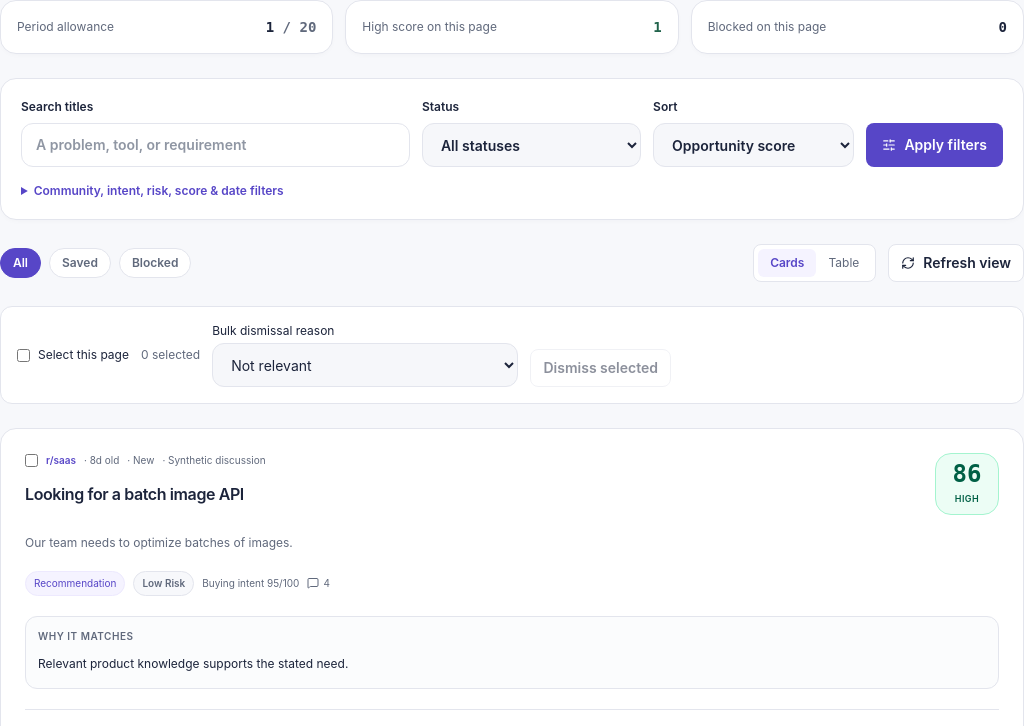
opportunity review states › submits only selected visible items and the chosen dismissal reason
This screenshot has width=1024, height=726.
Expected: the button "Dismiss selected" is disabled, [530, 349, 671, 387]
Click the checkbox named "Select Looking for a batch image API" at (32, 460), box [25, 454, 38, 467]
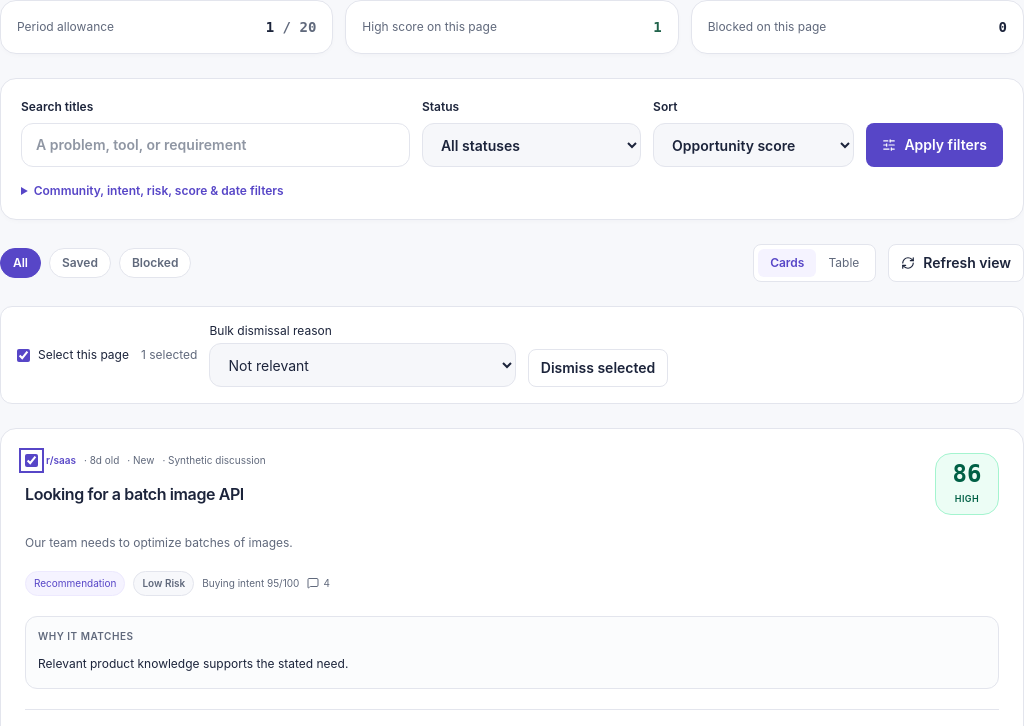
Select "Product cannot help" in the dropdown labelled "Bulk dismissal reason" at (363, 365), box [210, 343, 516, 387]
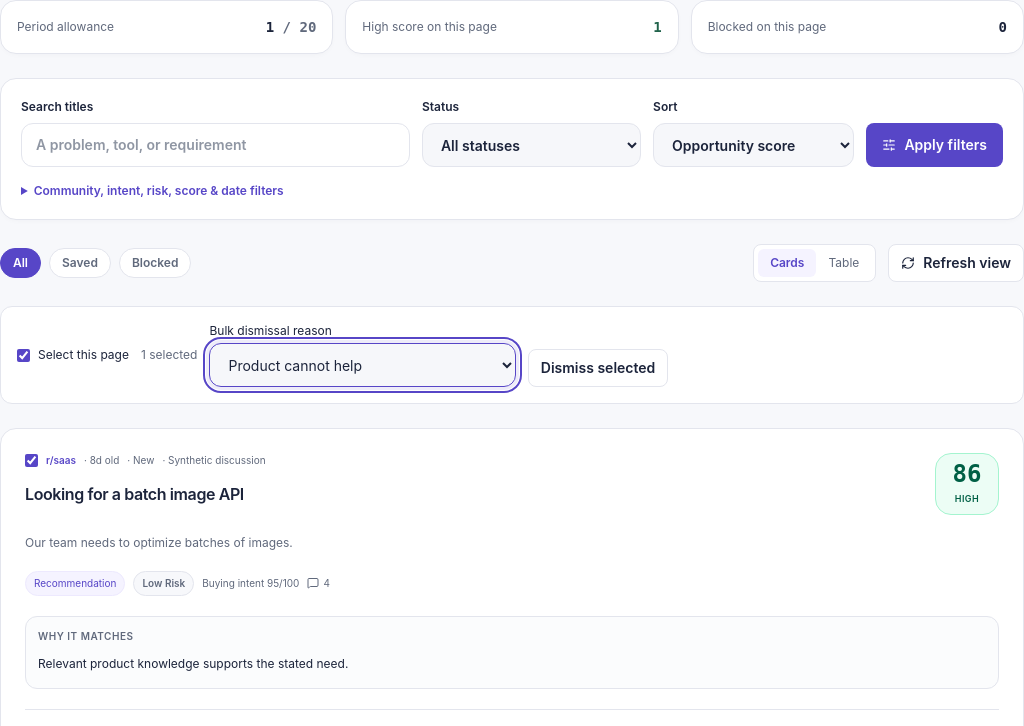
Click the button "Dismiss selected" at (598, 368), box [528, 349, 668, 387]
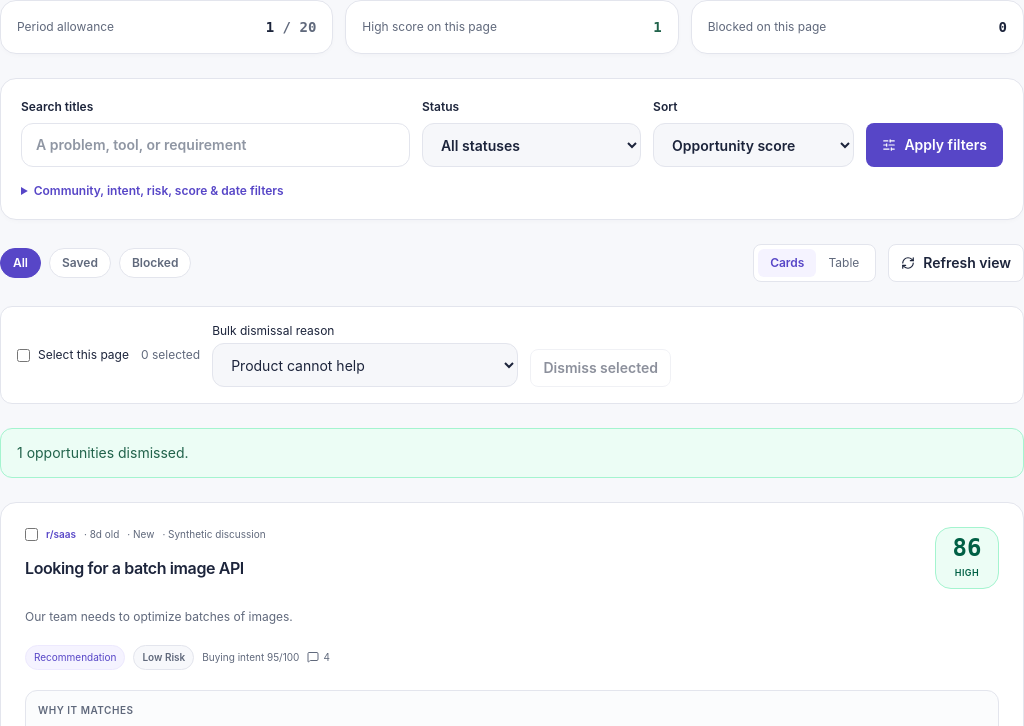
Now the text "1 opportunities dismissed." is shown, box [0, 428, 1023, 478]
